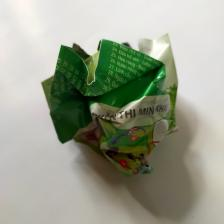Paper: (36, 32, 180, 180)
